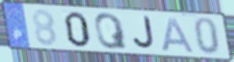0: (193, 16, 224, 57), (63, 10, 92, 49)
8: (32, 8, 59, 47)
A: (160, 16, 196, 54)
J: (131, 15, 157, 51)
Q: (93, 12, 130, 51)
